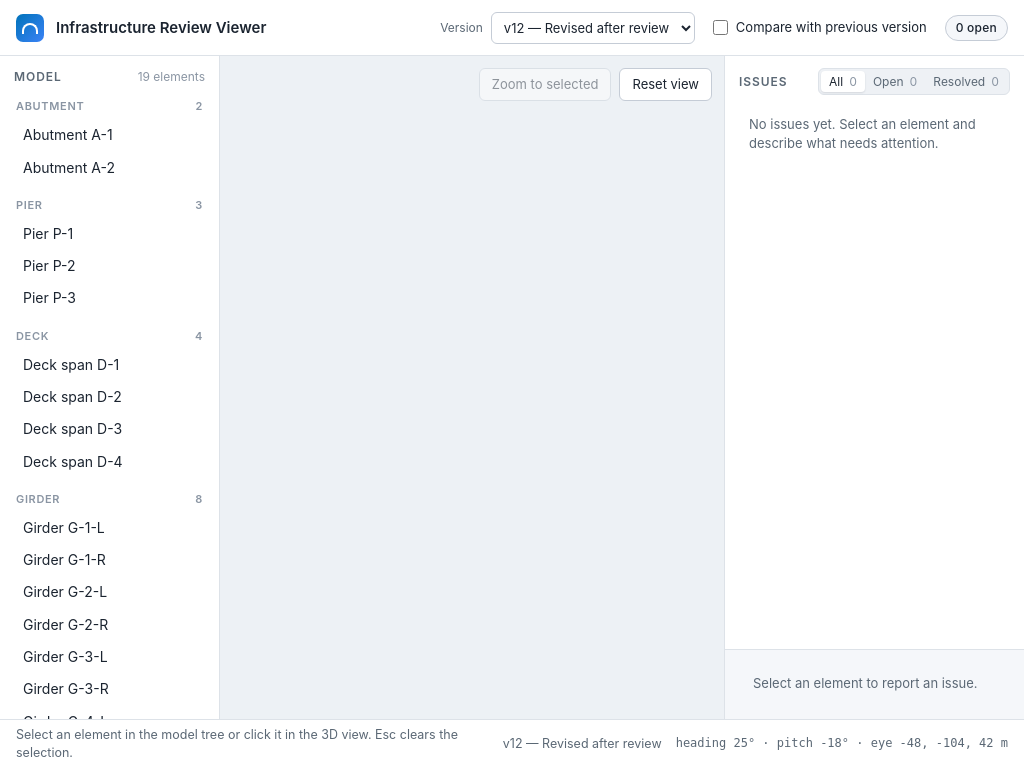
Test: App › switching to a version without a baseline disables comparison
The width and height of the screenshot is (1024, 768).
Select "v11 — Issued for review" in the dropdown with test id "version-select" at (593, 28), box [491,12,695,44]
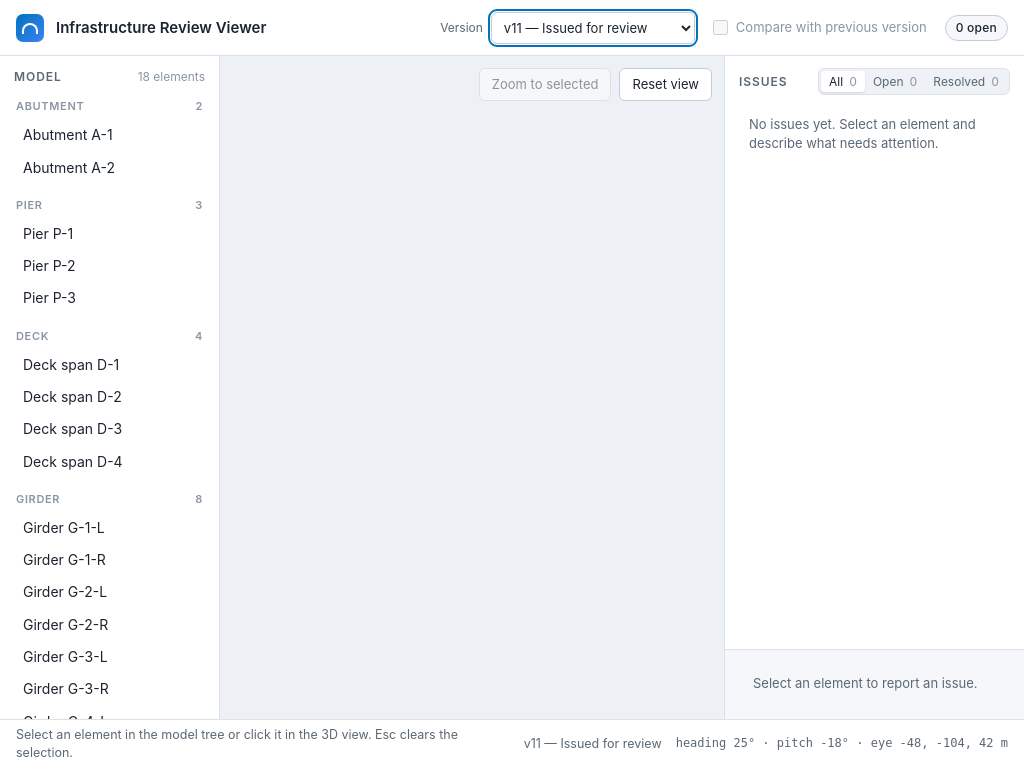
Result: the checkbox with test id "compare-toggle" is disabled at [713,20,728,35]
